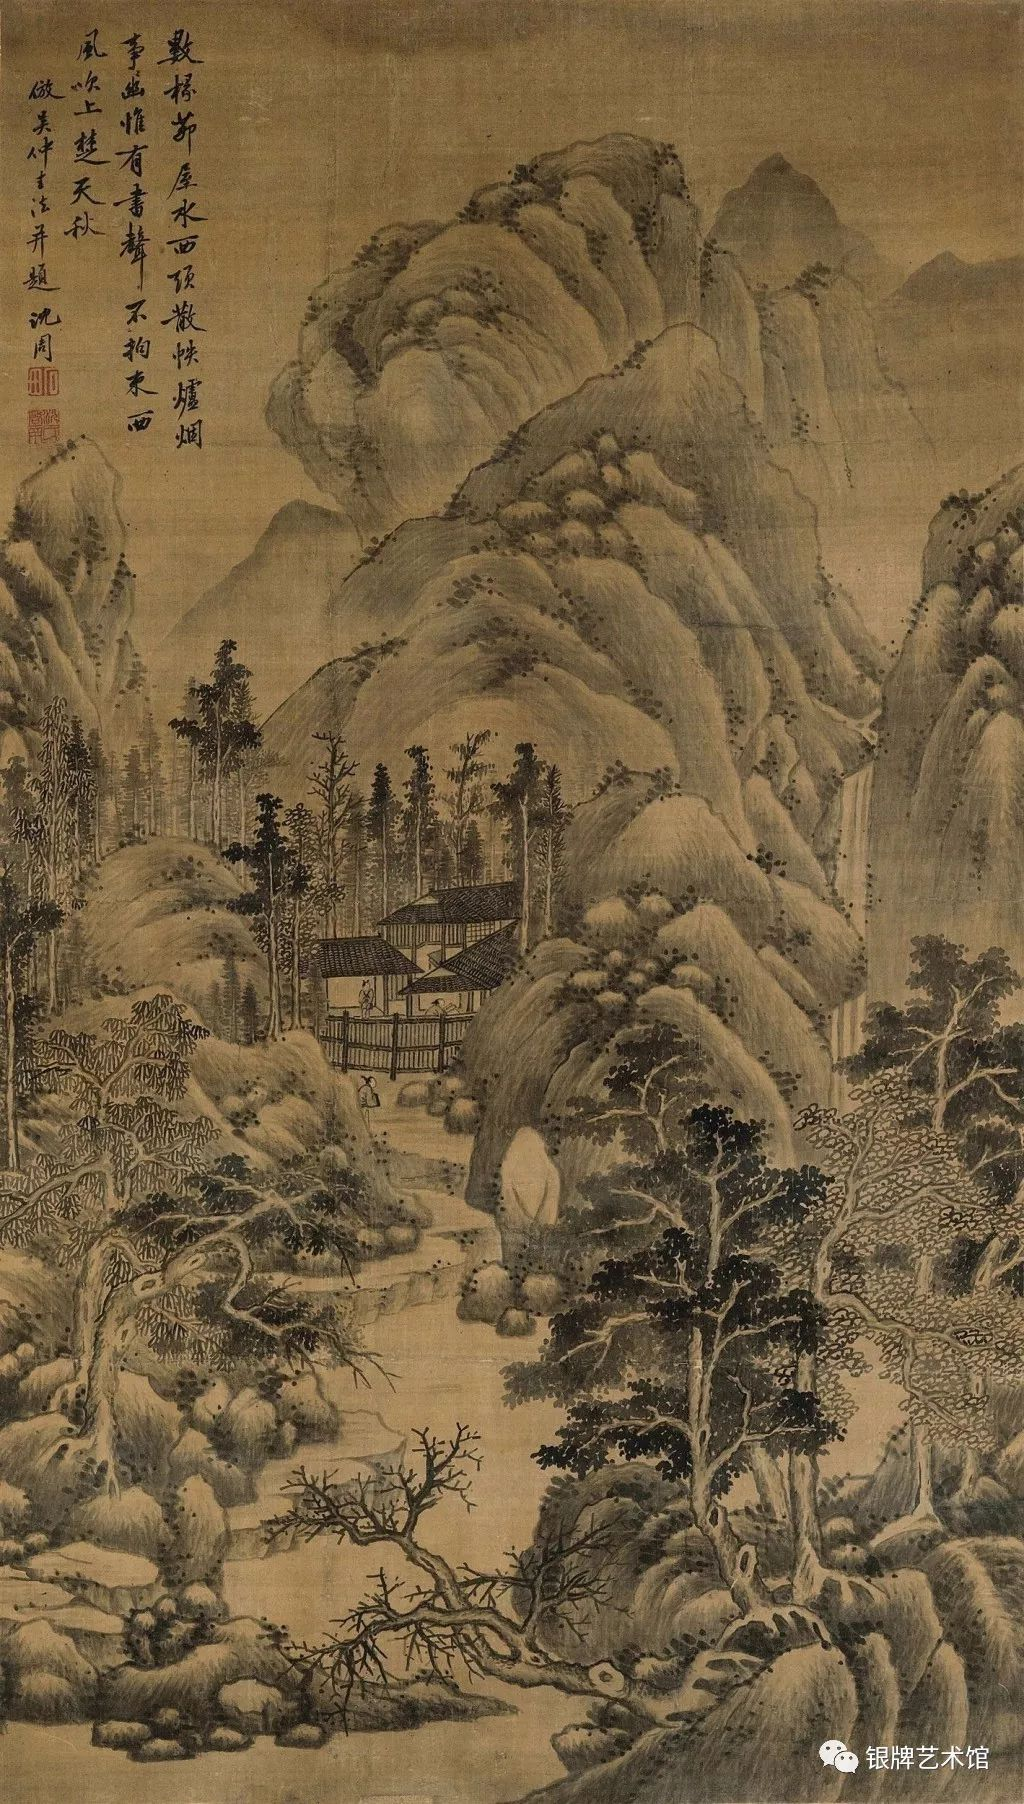hill: (17, 1502, 238, 1743), (682, 945, 832, 1118), (109, 858, 253, 1010), (196, 1047, 390, 1147), (476, 1002, 592, 1170)
house: (419, 895, 517, 956), (336, 939, 413, 985), (436, 960, 503, 1002)
man: (351, 977, 376, 1012)
mountain: (719, 308, 1024, 916), (311, 289, 678, 570), (365, 587, 707, 743), (511, 172, 823, 283), (1, 466, 98, 693), (580, 772, 713, 933), (155, 554, 294, 652), (103, 520, 151, 741), (394, 218, 505, 281)
river: (46, 1747, 542, 1801), (382, 1316, 519, 1443)
tree: (869, 958, 1019, 1522), (42, 1041, 184, 1435), (651, 1139, 759, 1585), (757, 1166, 823, 1602), (199, 1179, 348, 1360), (1, 737, 84, 1010), (409, 772, 563, 881), (303, 754, 398, 926), (246, 831, 319, 1031), (194, 677, 276, 841), (278, 1618, 430, 1704), (509, 1535, 617, 1641), (473, 1658, 632, 1710), (273, 1493, 409, 1545), (401, 1452, 473, 1549), (421, 1560, 469, 1656)
